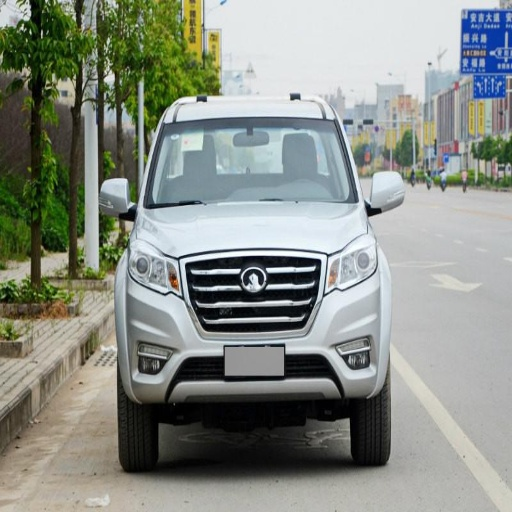front_bumper: (121, 251, 384, 401)
front_right_light: (128, 240, 180, 293)
hood: (139, 204, 366, 256)
left_mirror: (367, 171, 405, 215)
